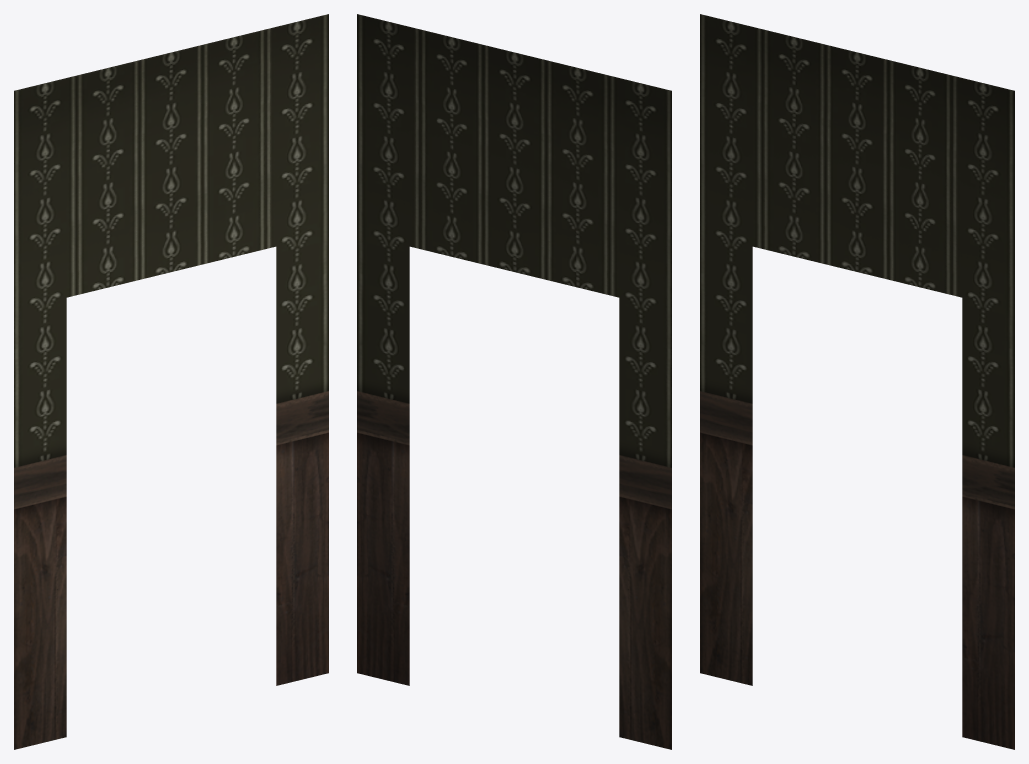
Rendered from Wall.WP_3x1.5_Door.fbx.
3 renders of one model, left to right at view 1: azimuth 30°, elevation 25°; view 2: azimuth 150°, elevation 25°; view 3: azimuth 330°, elevation 25°, orthographic.
Visible parts, largest first — view 1: Wall.WP_3x1.5_Door; view 2: Wall.WP_3x1.5_Door; view 3: Wall.WP_3x1.5_Door.
Part boxes in pixels (bbox=[...]): Wall.WP_3x1.5_Door: bbox=[14, 14, 328, 749]; Wall.WP_3x1.5_Door: bbox=[357, 14, 671, 749]; Wall.WP_3x1.5_Door: bbox=[700, 14, 1014, 749].
Bounding box in the file's own units: 150 × 300 × 4.01e-05.
